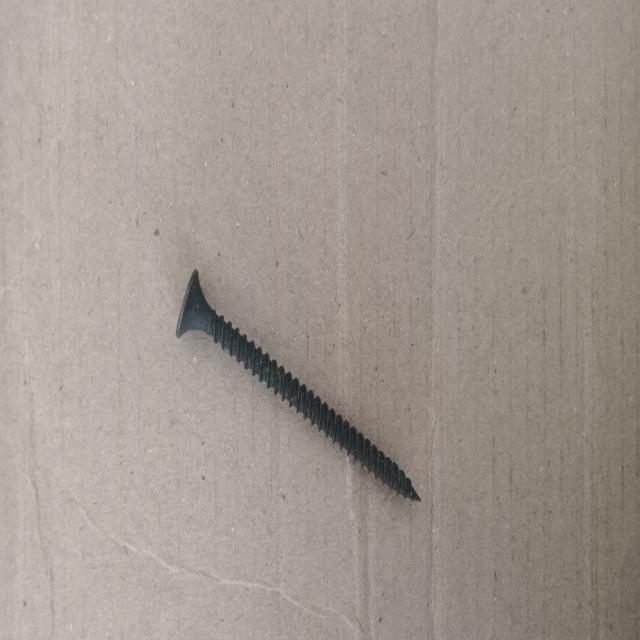screw: (175, 268, 422, 503)
